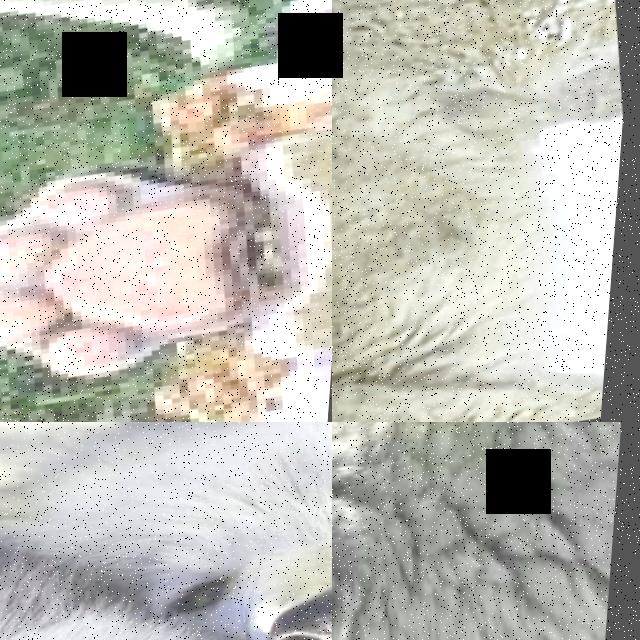wolf: (332, 0, 640, 422), (0, 422, 332, 640), (0, 435, 332, 640), (332, 422, 640, 640), (0, 422, 332, 597), (0, 0, 332, 174)
